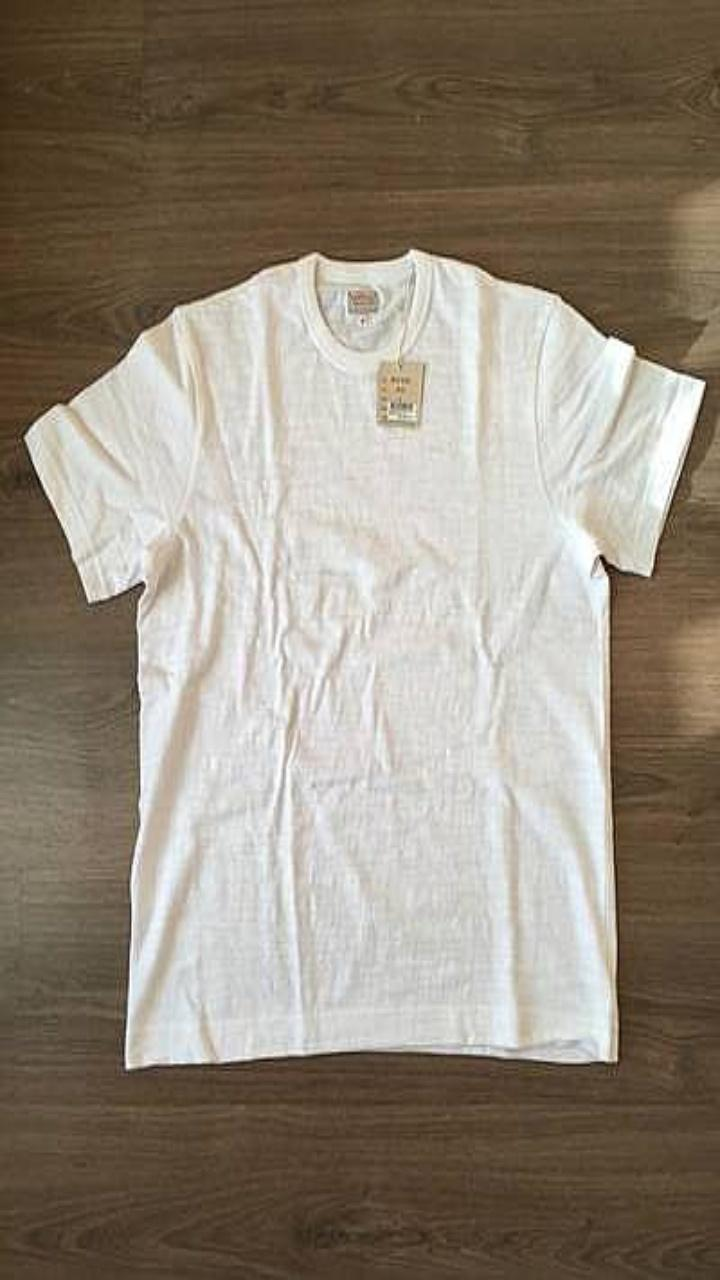T-Shirt: (24, 248, 705, 1068)
